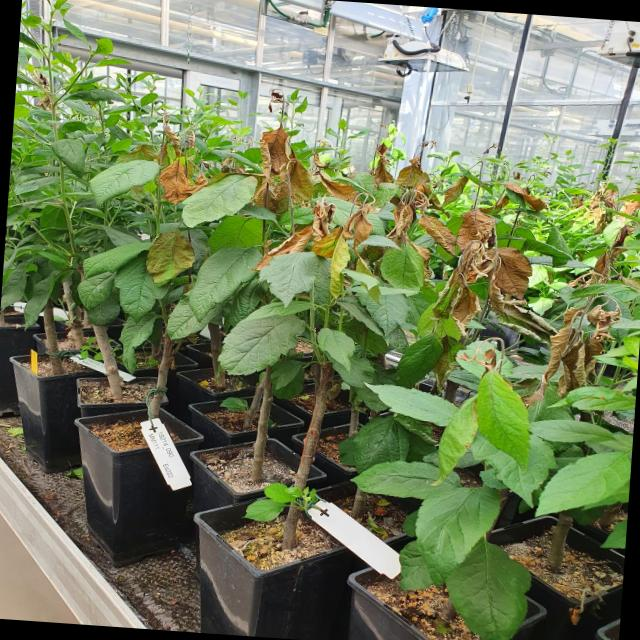-FireBlight-: (387, 160, 619, 399), (253, 195, 375, 300), (249, 120, 376, 219), (575, 183, 640, 288), (156, 121, 208, 209), (501, 181, 552, 214)
